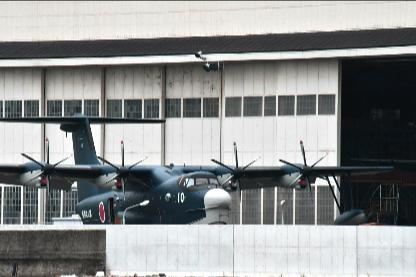Tu95: (1, 110, 395, 224)
